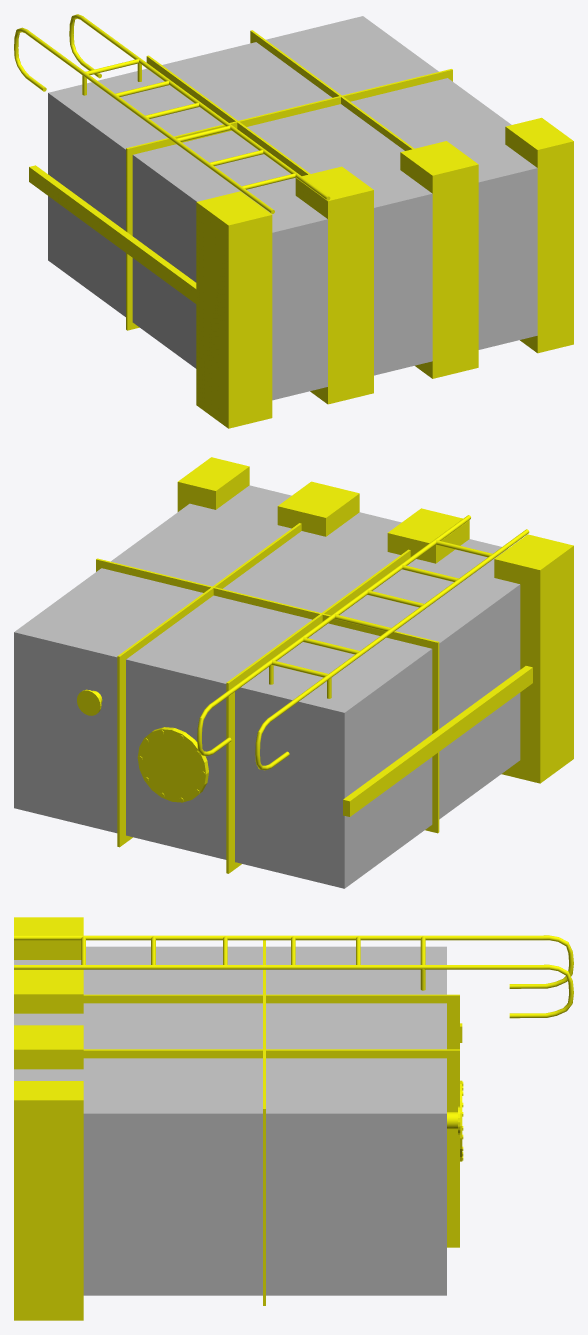
Rendered from sm_hana_bas_fuel_tank.glb.
The picture shows the model from 3 angles, top to bottom: view 1: azimuth 30°, elevation 25°; view 2: azimuth 150°, elevation 25°; view 3: azimuth 270°, elevation 25°; orthographic projection. The views are drawn at different scales.
Visible parts, largest first — view 1: sm_color_common, sm_hana_bas_fuel_tank; view 2: sm_color_common, sm_hana_bas_fuel_tank; view 3: sm_color_common, sm_hana_bas_fuel_tank.
Boxes of the visible parts, x1,y1,x2,y2 form: sm_color_common: [48, 16, 537, 400]; sm_hana_bas_fuel_tank: [14, 14, 573, 428]; sm_color_common: [14, 485, 520, 888]; sm_hana_bas_fuel_tank: [77, 457, 573, 873]; sm_color_common: [14, 946, 446, 1295]; sm_hana_bas_fuel_tank: [14, 917, 573, 1320].
Size of the model in its own units: 3.02 by 1.74 by 3.91.
Materials: 2 (1 with a texture image).
